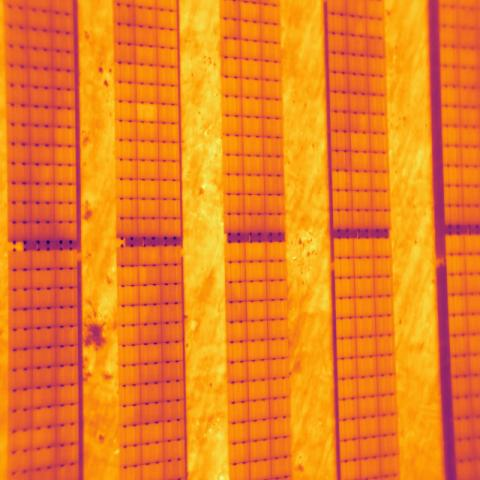fault: (136, 102, 158, 124)
